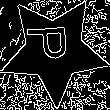P_E: (29, 30, 79, 70)
